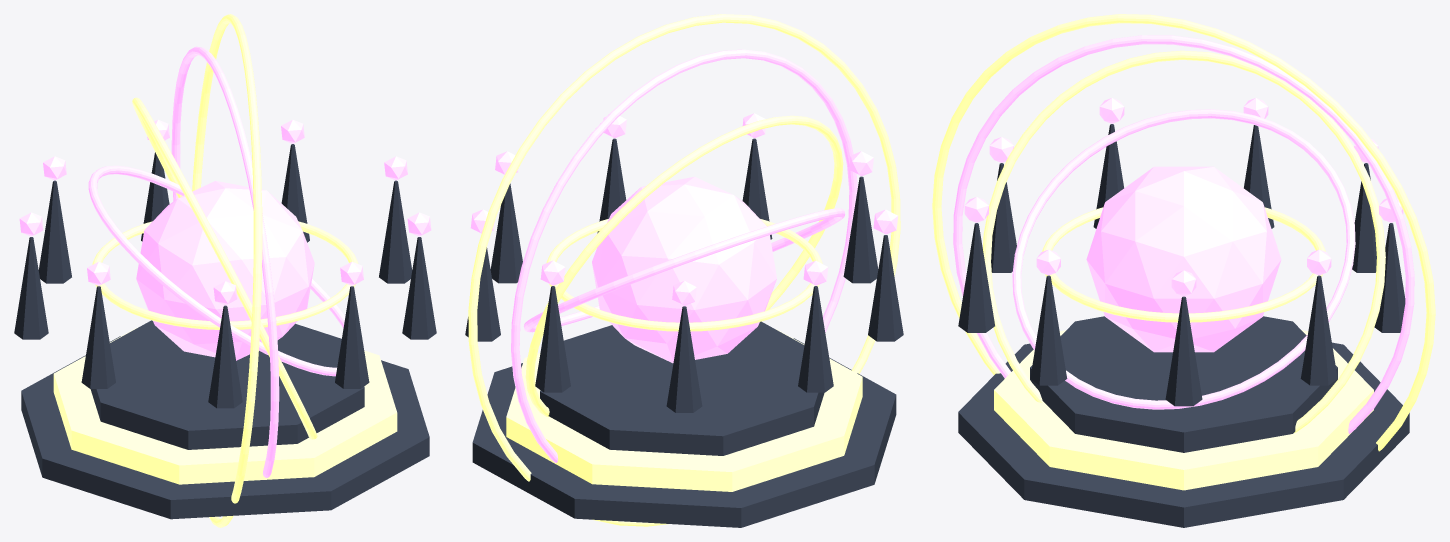
The model's file is gpu-blender-v37.glb.
3 views of the same model, side by side, from view 1: azimuth 30°, elevation 25°; view 2: azimuth 150°, elevation 25°; view 3: azimuth 270°, elevation 25° (orthographic). The views are drawn at different scales.
Visible parts, largest first — view 1: Cylinder.002, Cylinder, SovereignCore_nealsvision, Cylinder.001, Torus.004, Torus.003, Torus.001, Torus.002, Torus, Cone.006, Cone.004, Cone.008 (+6 smaller); view 2: Cylinder.002, SovereignCore_nealsvision, Cylinder, Cylinder.001, Torus.004, Torus.003, Torus.002, Torus.001, Torus, Cone.005, Cone.002, Cone.004 (+6 smaller); view 3: SovereignCore_nealsvision, Cylinder.002, Cylinder, Cylinder.001, Torus.004, Torus.003, Torus.002, Torus.001, Torus, Cone, Cone.001, Cone.008 (+6 smaller).
Boxes of the visible parts, box(x1,y1,x2,y2) form: Cylinder.002: box(90, 320, 364, 449); Cylinder: box(21, 336, 429, 519); SovereignCore_nealsvision: box(136, 181, 314, 360); Cylinder.001: box(53, 327, 397, 484); Torus.004: box(192, 14, 262, 527); Torus.003: box(171, 46, 279, 479); Torus.001: box(88, 165, 345, 376); Torus.002: box(132, 97, 317, 439); Torus: box(92, 221, 358, 329); Cone.006: box(208, 305, 242, 408); Cone.004: box(14, 237, 48, 339); Cone.008: box(402, 237, 436, 339); Cylinder.002: box(540, 321, 824, 455); SovereignCore_nealsvision: box(592, 176, 776, 363); Cylinder: box(472, 338, 896, 527); Cylinder.001: box(506, 329, 862, 491); Torus.004: box(468, 14, 900, 526); Torus.003: box(511, 49, 857, 462); Torus.002: box(525, 115, 843, 416); Torus.001: box(523, 208, 844, 332); Torus: box(546, 219, 822, 331); Cone.005: box(868, 235, 903, 341); Cone.002: box(535, 286, 570, 392); Cone.004: box(798, 286, 833, 392); SovereignCore_nealsvision: box(1086, 166, 1281, 352); Cylinder.002: box(1030, 316, 1337, 452); Cylinder: box(958, 342, 1409, 527); Cylinder.001: box(994, 330, 1373, 490); Torus.004: box(932, 14, 1435, 451); Torus.003: box(953, 35, 1414, 433); Torus.002: box(983, 50, 1385, 432); Torus.001: box(1012, 109, 1355, 409); Torus: box(1042, 207, 1325, 322); Cone: box(1165, 296, 1202, 406); Cone.001: box(1300, 275, 1337, 385); Cone.008: box(1030, 275, 1067, 385).
Bounding box in the file's own units: 4.41 × 5.33 × 4.9.
